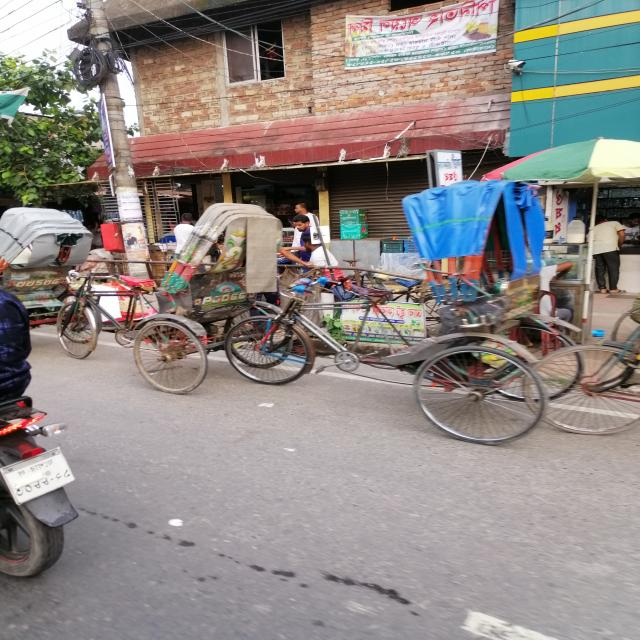Rickshaw: (223, 171, 545, 450)
